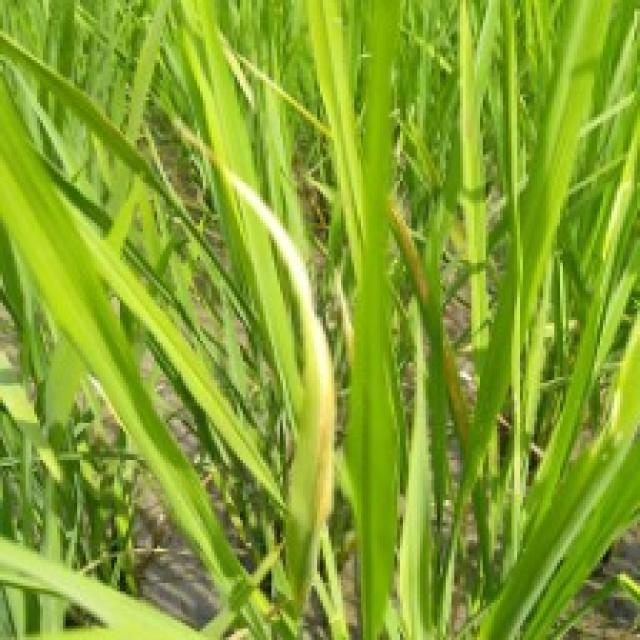Rice___Bacterial_Leaf_Blight: (171, 116, 337, 637)
